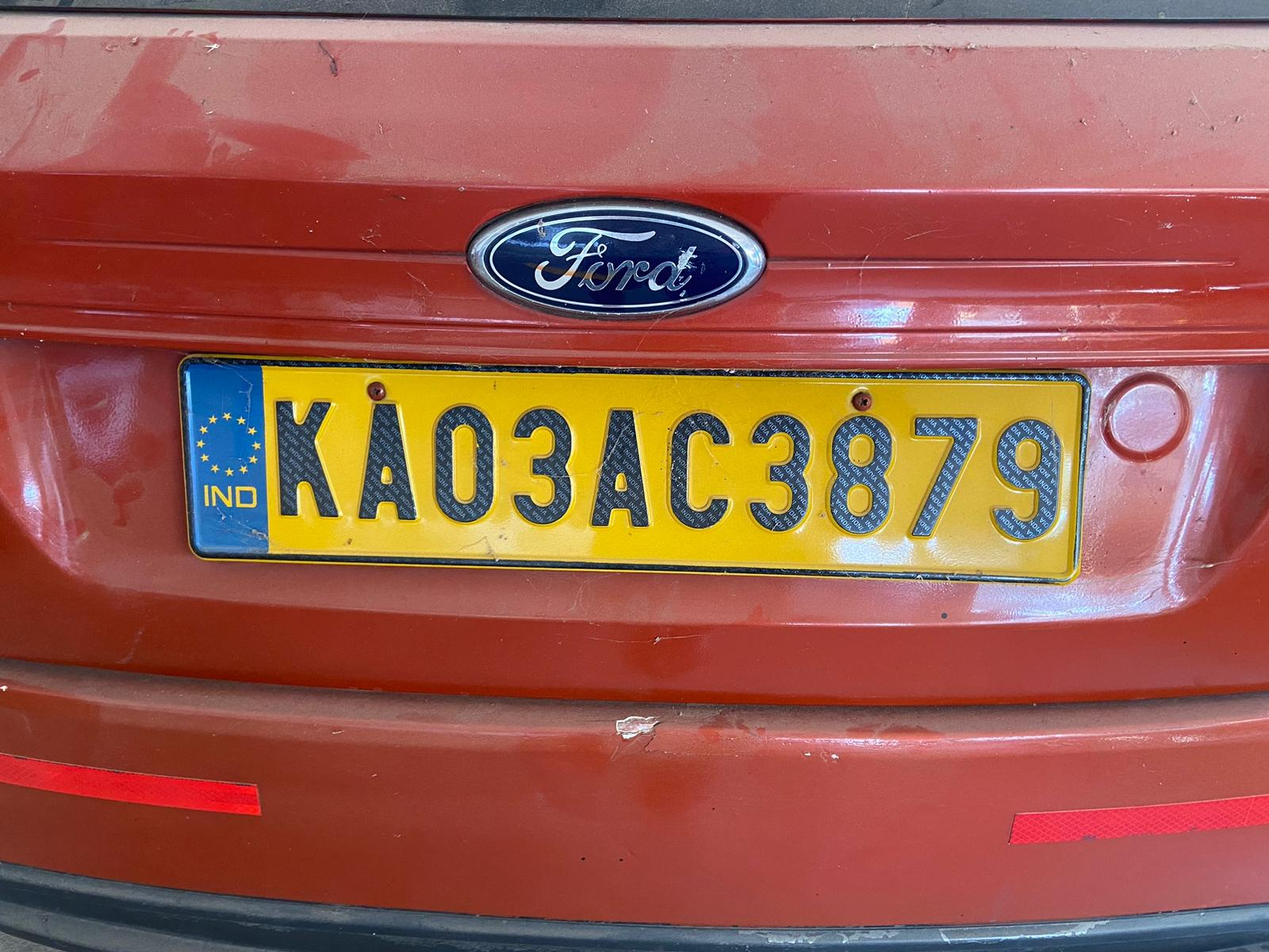0: (425, 401, 504, 530)
3: (744, 403, 815, 541), (508, 397, 578, 530)
7: (909, 411, 984, 540)
8: (825, 411, 899, 548)
9: (984, 405, 1068, 546)
A: (583, 373, 651, 541), (359, 391, 421, 535)
C: (663, 389, 739, 535)
K: (264, 391, 344, 533)
